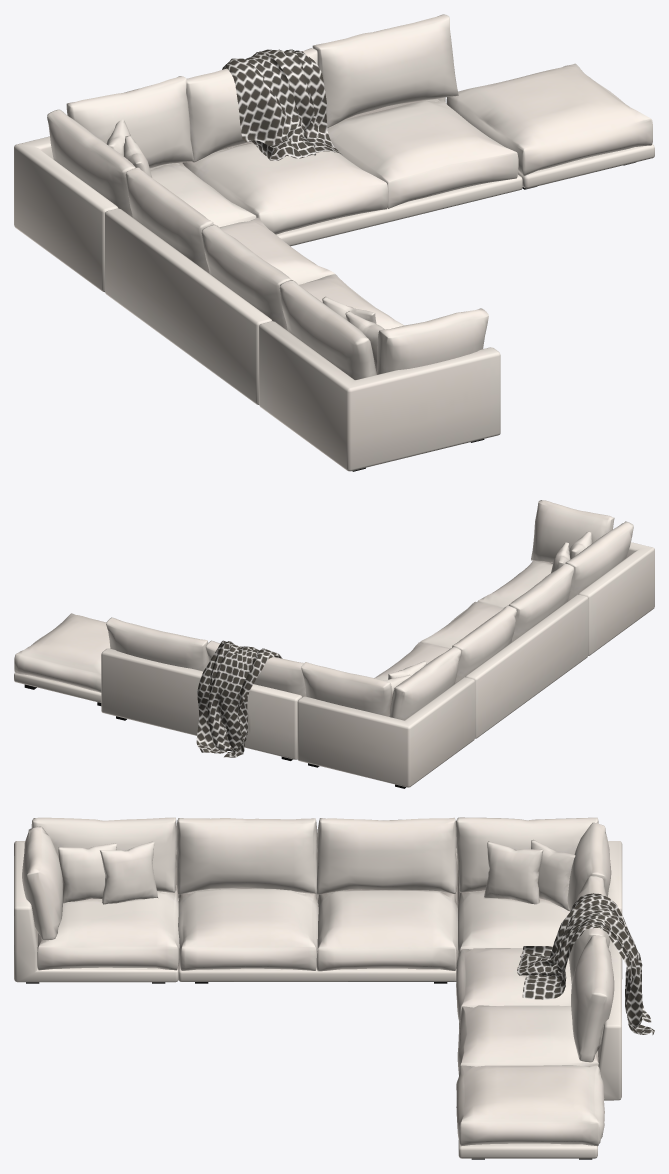
File: furniture_sofa.315c7cb6f6be.glb
The picture shows the model from 3 angles, top to bottom: view 1: azimuth 30°, elevation 25°; view 2: azimuth 150°, elevation 25°; view 3: azimuth 270°, elevation 25°; orthographic projection. The views are drawn at different scales.
Visible parts, largest first — view 1: large sectional couch Low Poly; view 2: large sectional couch Low Poly; view 3: large sectional couch Low Poly.
Part boxes in pixels (box(x1,y1,x2,y2)): large sectional couch Low Poly: box(14, 14, 654, 471); large sectional couch Low Poly: box(14, 500, 654, 788); large sectional couch Low Poly: box(14, 817, 654, 1159).
Bounding box in the file's own units: 4.62 × 1.04 × 5.09.
Materials: 1 (1 with a texture image).
